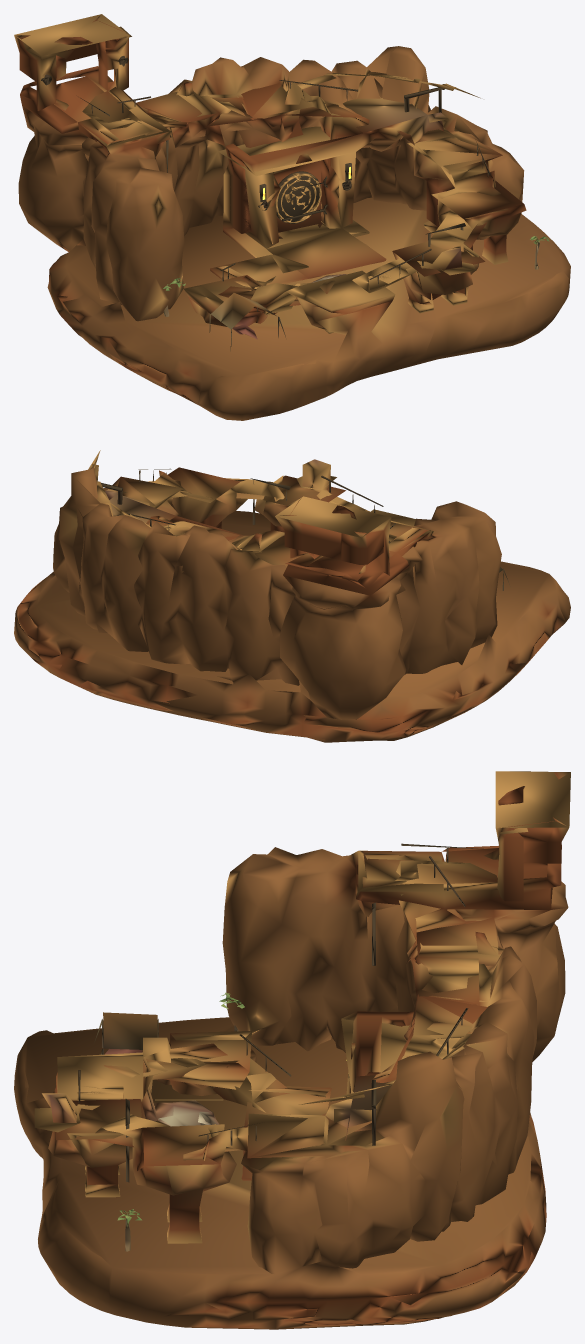
The model's file is sahrun.far.glb.
3 views of the same model, one above another, from view 1: azimuth 30°, elevation 25°; view 2: azimuth 150°, elevation 25°; view 3: azimuth 270°, elevation 25° (orthographic). The views are drawn at different scales.
Parts seen in each view (by area): view 1: static_mineral, static_metal, static_organic; view 2: static_mineral, static_organic, static_metal; view 3: static_mineral, static_organic, static_metal.
Part boxes in pixels (box(x1,y1,x2,y2)): static_mineral: box(14, 14, 570, 420); static_metal: box(41, 56, 490, 286); static_organic: box(163, 87, 550, 351); static_mineral: box(14, 450, 570, 742); static_organic: box(101, 478, 510, 590); static_metal: box(127, 468, 395, 543); static_mineral: box(14, 771, 570, 1329); static_organic: box(94, 902, 376, 1251); static_metal: box(78, 843, 488, 1145).
Bounding box in the file's own units: 24.21 × 12.73 × 20.36.
